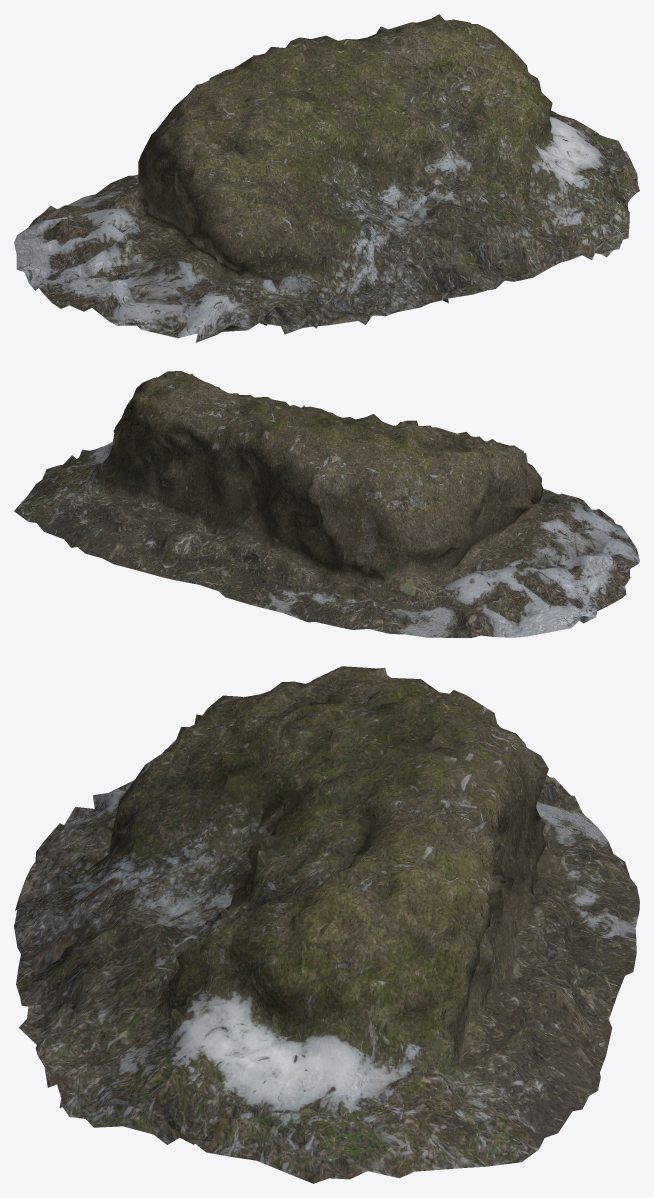
The model's file is PX_Mossy_Stone_01_LOD3.fbx.
The picture shows the model from 3 angles, top to bottom: view 1: azimuth 30°, elevation 25°; view 2: azimuth 150°, elevation 25°; view 3: azimuth 270°, elevation 25°; orthographic projection. The views are drawn at different scales.
Visible parts, largest first — view 1: PX_Mossy_Stone_01_LOD3; view 2: PX_Mossy_Stone_01_LOD3; view 3: PX_Mossy_Stone_01_LOD3.
Boxes of the visible parts, x1,y1,x2,y2 form: PX_Mossy_Stone_01_LOD3: (14, 14, 639, 342); PX_Mossy_Stone_01_LOD3: (14, 371, 639, 637); PX_Mossy_Stone_01_LOD3: (14, 666, 639, 1183).
Size of the model in its own units: 241 by 64.01 by 148.
